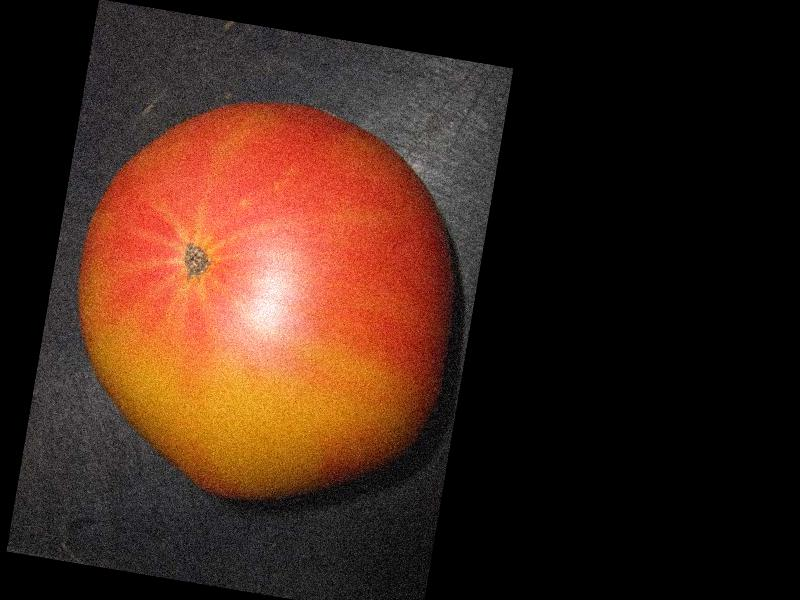Tomato: (47, 74, 485, 524)
